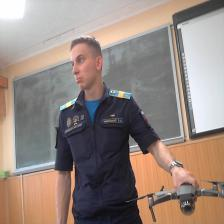drone: (124, 176, 224, 224)
